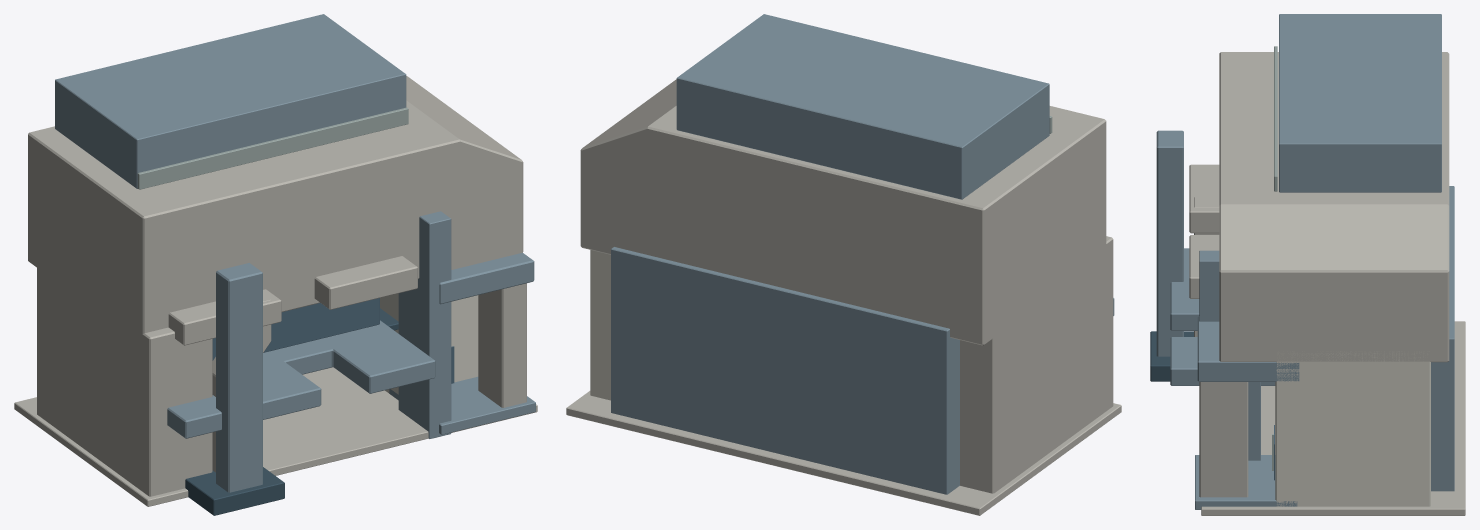
File: CityV7_CivicPodium.fbx
3 views of the same model, side by side, from view 1: azimuth 30°, elevation 25°; view 2: azimuth 150°, elevation 25°; view 3: azimuth 270°, elevation 25° (orthographic). The views are drawn at different scales.
Parts seen in each view (by area): view 1: CityV7_CivicPodium__CityV7_Mineral, CityV7_CivicPodium__CityV7_BlueStone, CityV7_CivicPodium__CityV7_Scale, CityV7_CivicPodium__CityV7_Glass, CityV7_CivicPodium__CityV7_Structure, CityV7_CivicPodium__CityV7_Pale; view 2: CityV7_CivicPodium__CityV7_Mineral, CityV7_CivicPodium__CityV7_BlueStone, CityV7_CivicPodium__CityV7_Pale; view 3: CityV7_CivicPodium__CityV7_Mineral, CityV7_CivicPodium__CityV7_BlueStone, CityV7_CivicPodium__CityV7_Pale, CityV7_CivicPodium__CityV7_Structure, CityV7_CivicPodium__CityV7_Scale.
Boxes of the visible parts, x1,y1,x2,y2 form: CityV7_CivicPodium__CityV7_Mineral: (14,76,537,506); CityV7_CivicPodium__CityV7_BlueStone: (55,14,535,492); CityV7_CivicPodium__CityV7_Scale: (137,107,408,189); CityV7_CivicPodium__CityV7_Glass: (212,298,454,383); CityV7_CivicPodium__CityV7_Structure: (185,308,398,515); CityV7_CivicPodium__CityV7_Pale: (380,293,478,394); CityV7_CivicPodium__CityV7_Mineral: (566,79,1121,515); CityV7_CivicPodium__CityV7_BlueStone: (611,14,1114,494); CityV7_CivicPodium__CityV7_Pale: (590,250,610,400); CityV7_CivicPodium__CityV7_Mineral: (1189,52,1465,515); CityV7_CivicPodium__CityV7_BlueStone: (1156,14,1454,509); CityV7_CivicPodium__CityV7_Pale: (1275,351,1430,506); CityV7_CivicPodium__CityV7_Structure: (1150,331,1193,381); CityV7_CivicPodium__CityV7_Scale: (1272,46,1277,470).
Size of the model in its own units: 24.6 by 20 by 17.4.
